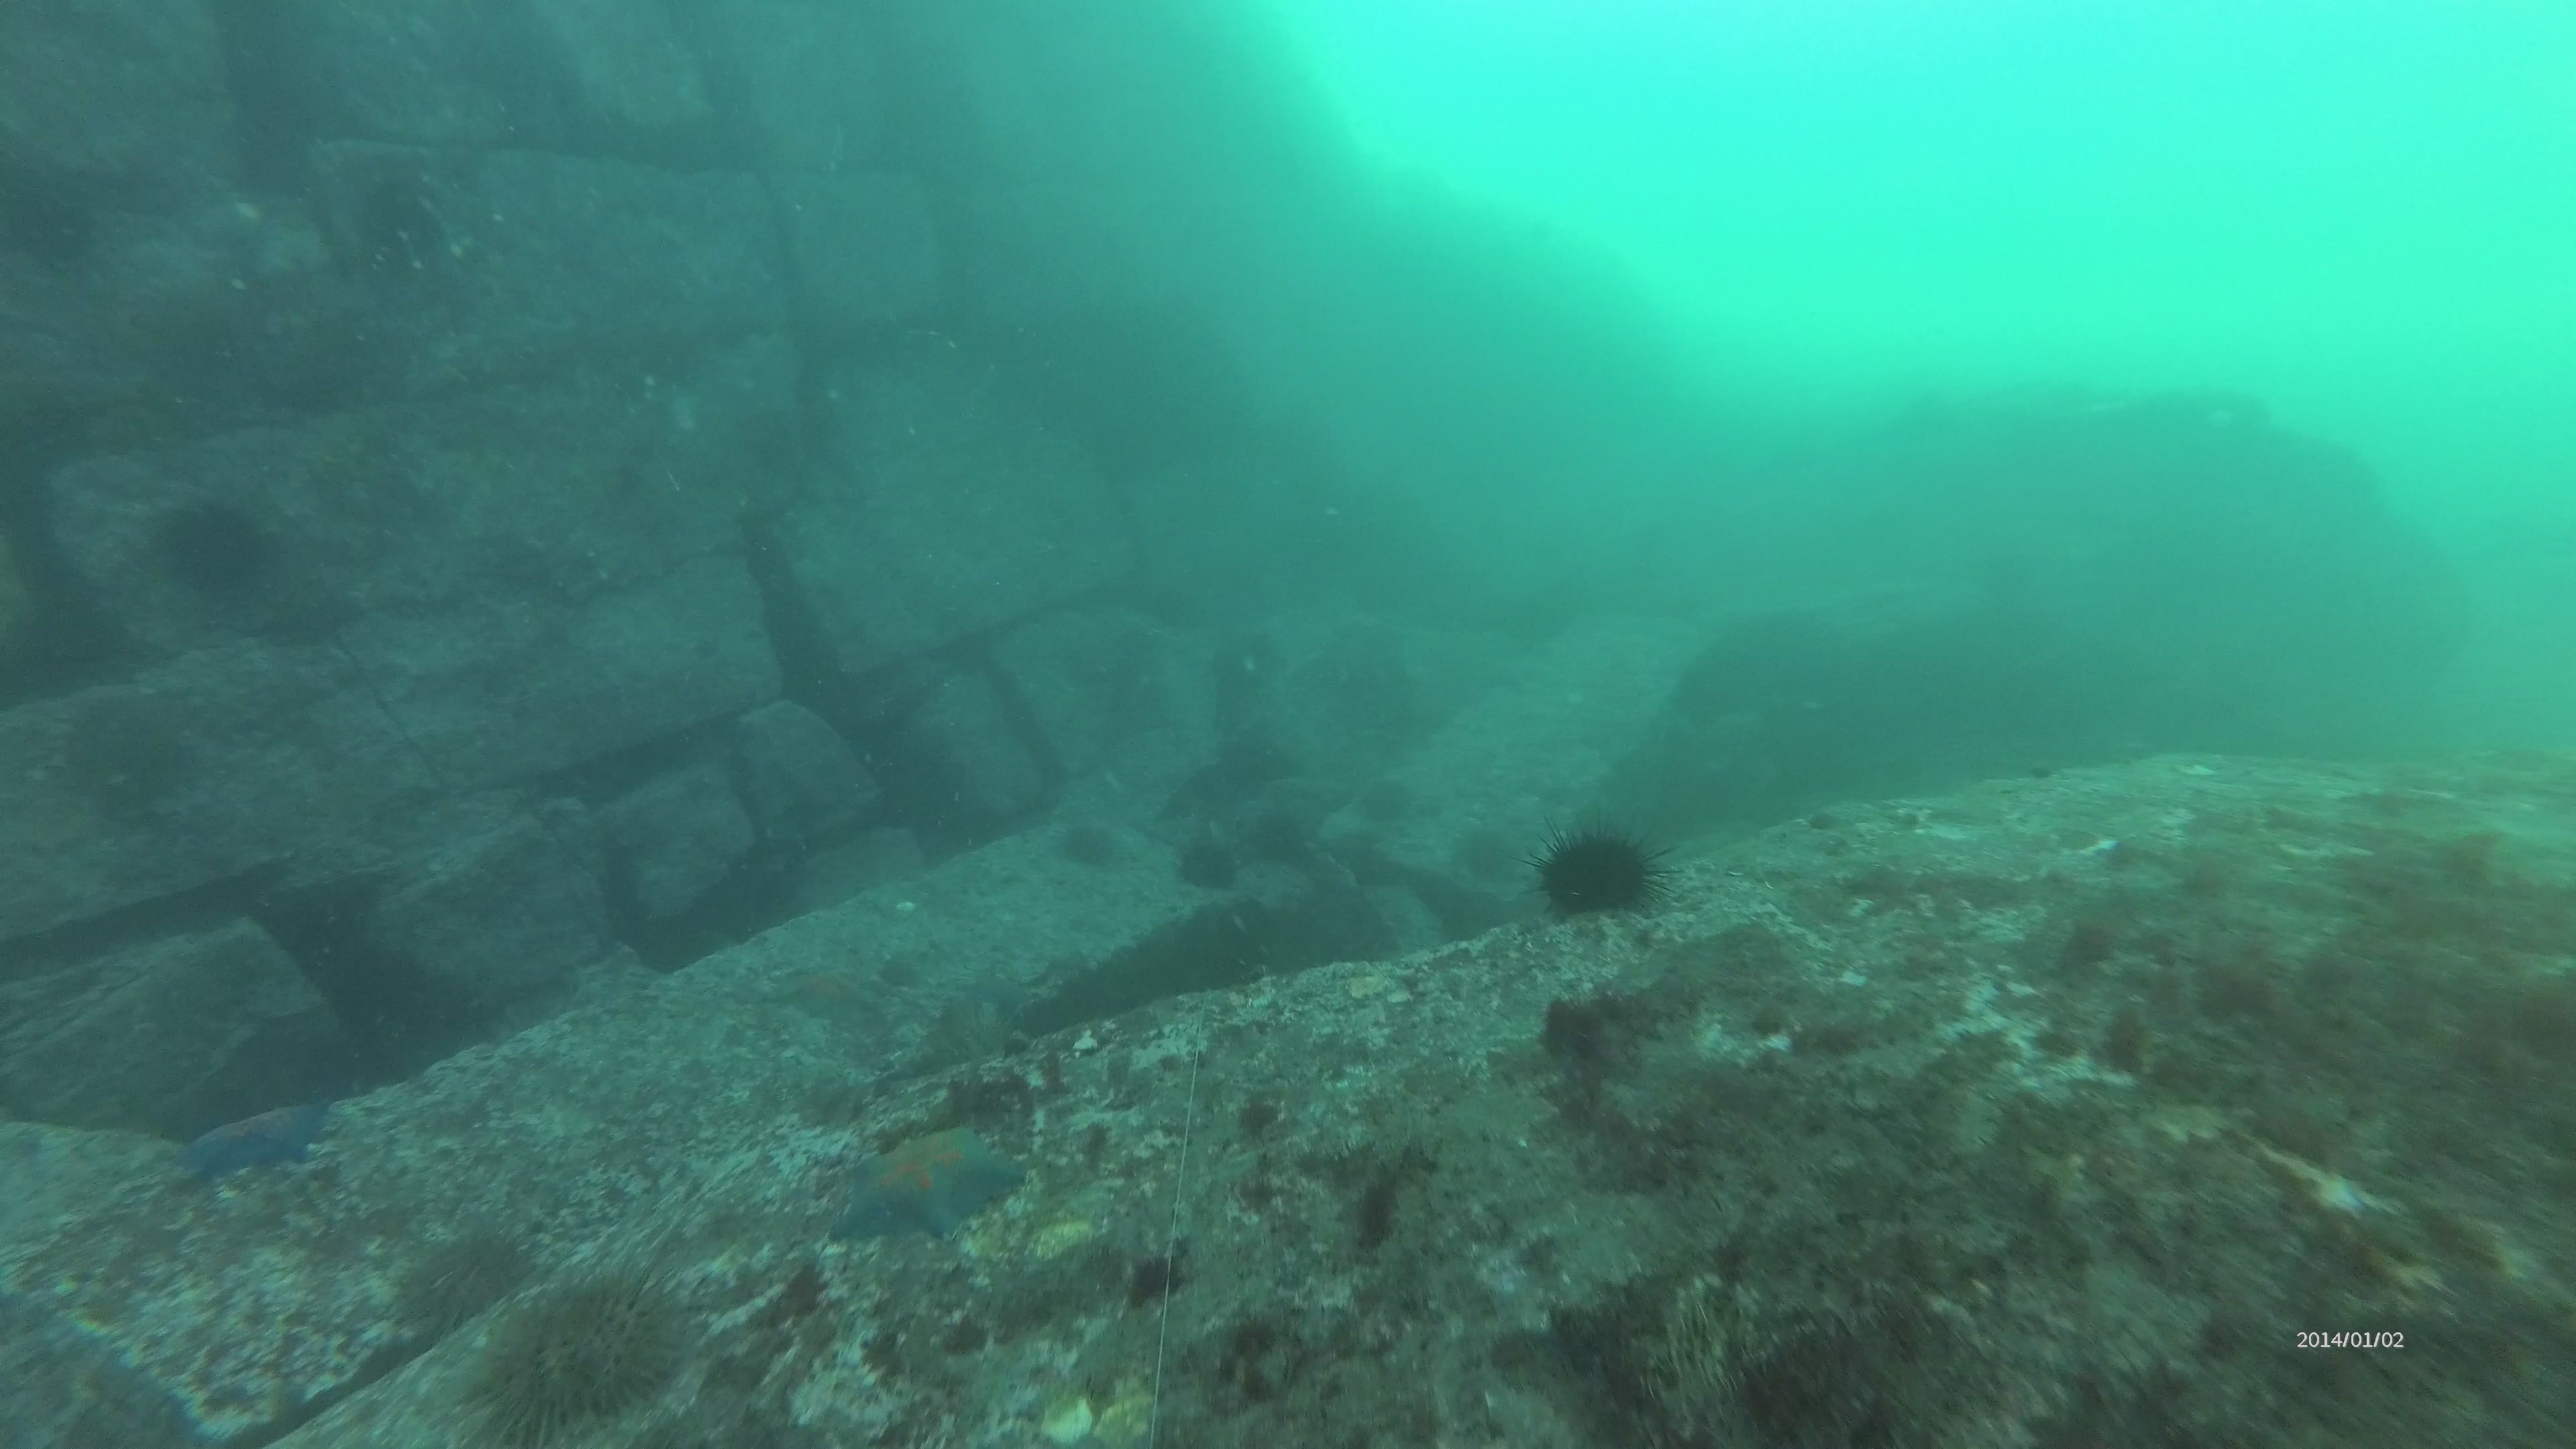echinus: (464, 1267, 692, 1440), (53, 697, 203, 830), (387, 1219, 538, 1343), (145, 490, 283, 607), (1529, 816, 1672, 927), (1169, 826, 1249, 899), (1049, 812, 1127, 878)
starfish: (828, 1116, 1030, 1249), (170, 1093, 343, 1189), (766, 952, 893, 1030)
